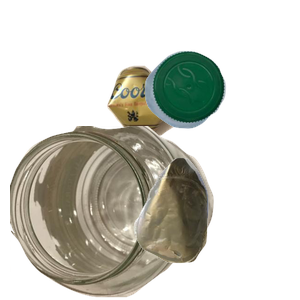glass: (10, 126, 216, 300)
metal: (105, 63, 300, 192)
plastic: (142, 48, 300, 169)
trash: (131, 155, 300, 300)
